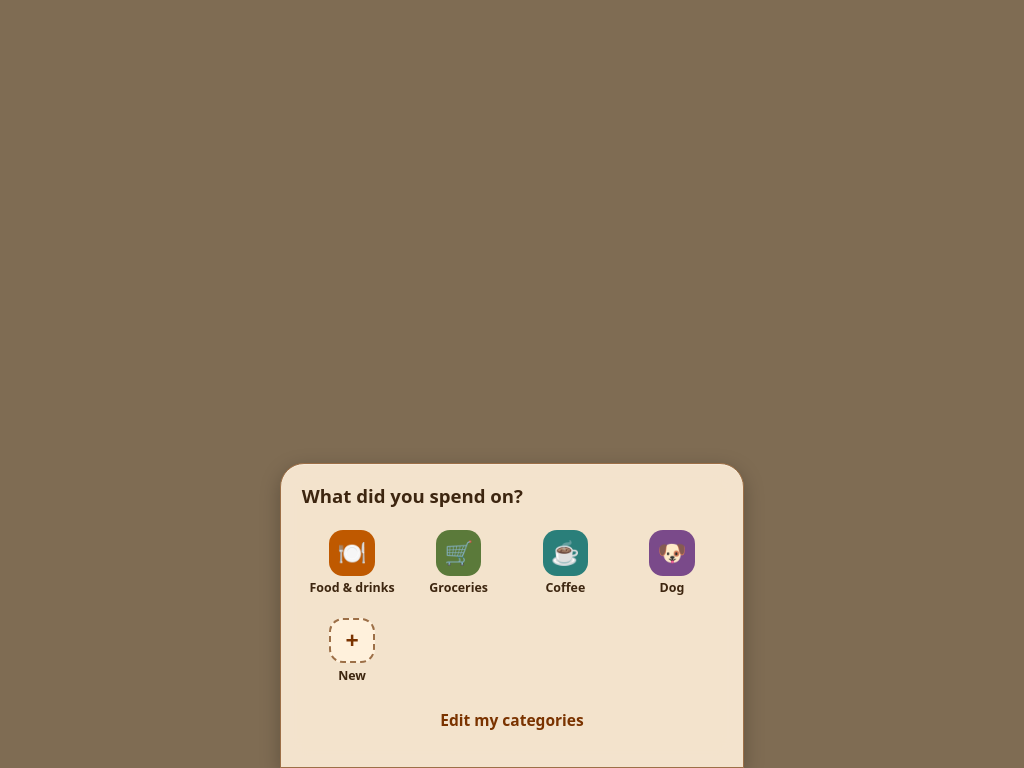
PersonalSpendingSheet, refused saves › shows the translated message for PERSONAL_ENTRY_CURRENCY_INVALID above Save
Click the button "☕ Coffee".
click(565, 563)  # box [515,524,616,601]
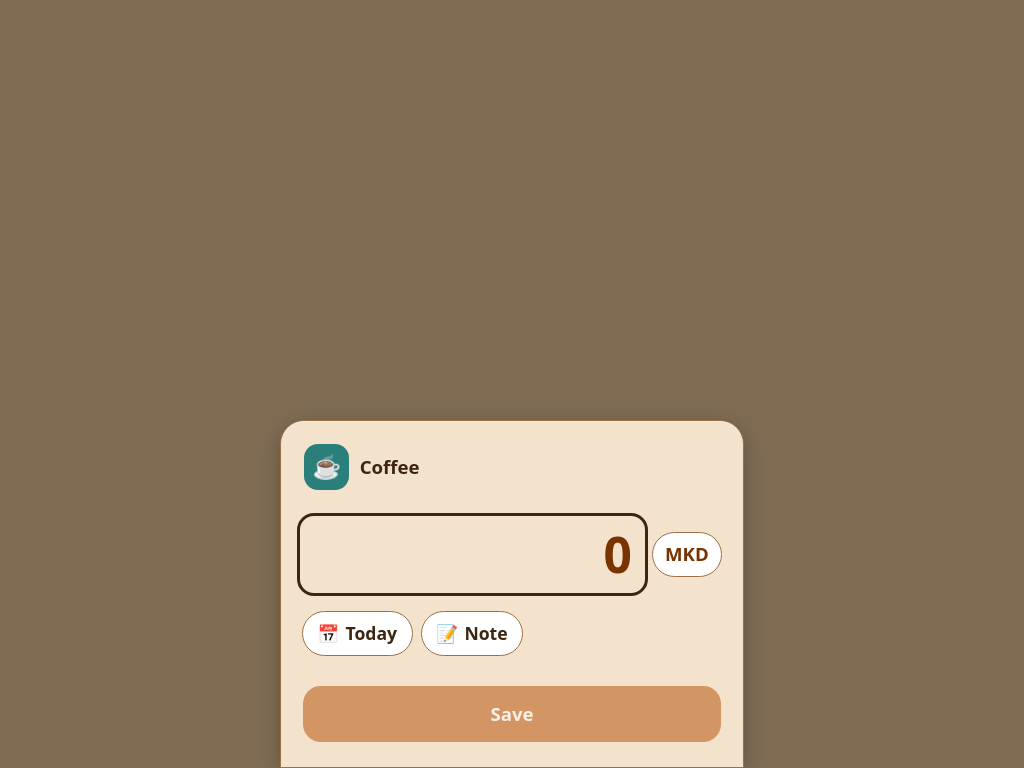
Type "120" into the field named "Amount".
click(473, 554); type("120")  # box [300,516,646,592]
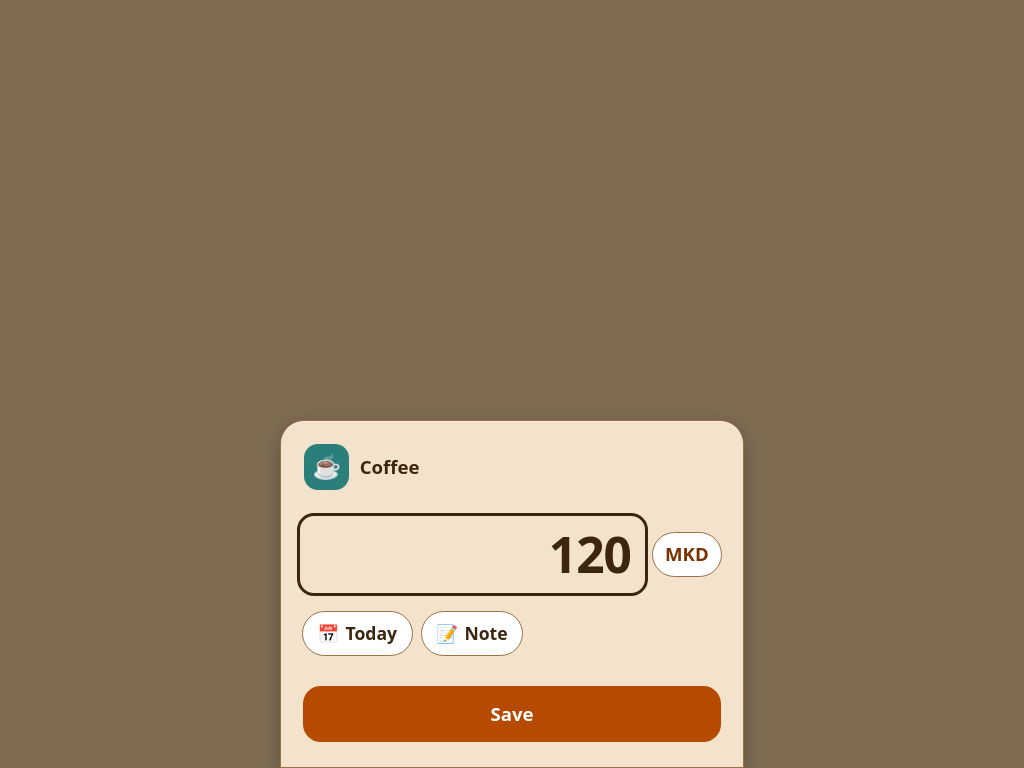
Click the button "📝 Note".
click(472, 633)  # box [421,610,523,656]
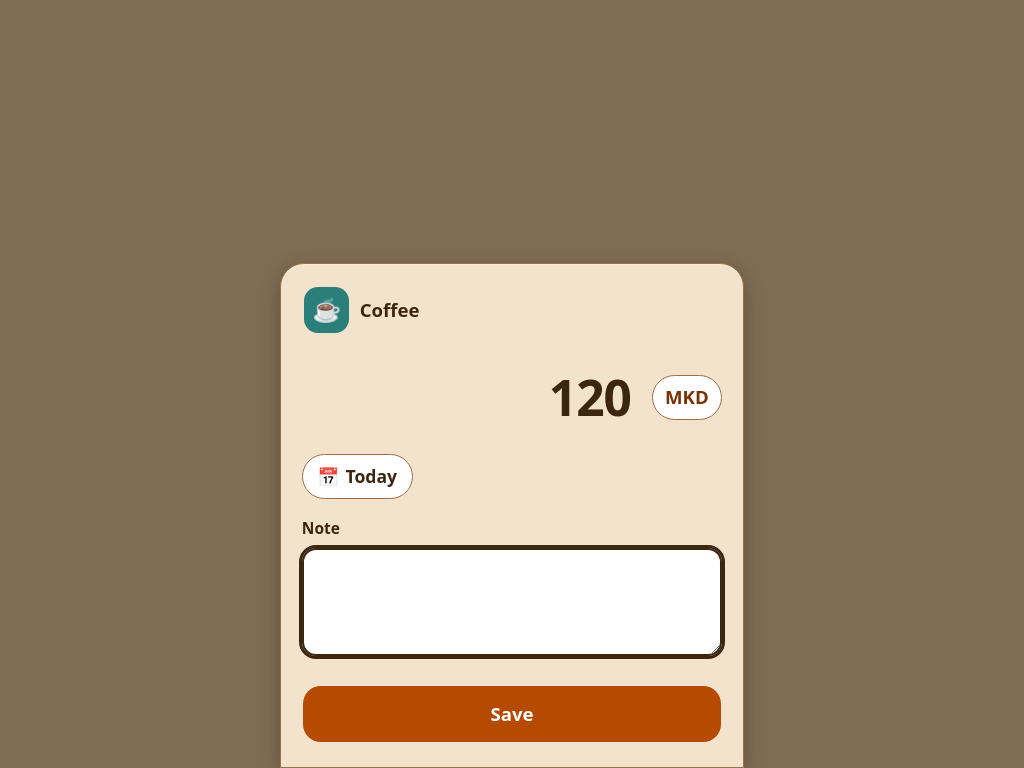
Type "for the office" into the text box labelled "Note".
click(512, 602); type("for the office")  # box [302,548,722,656]
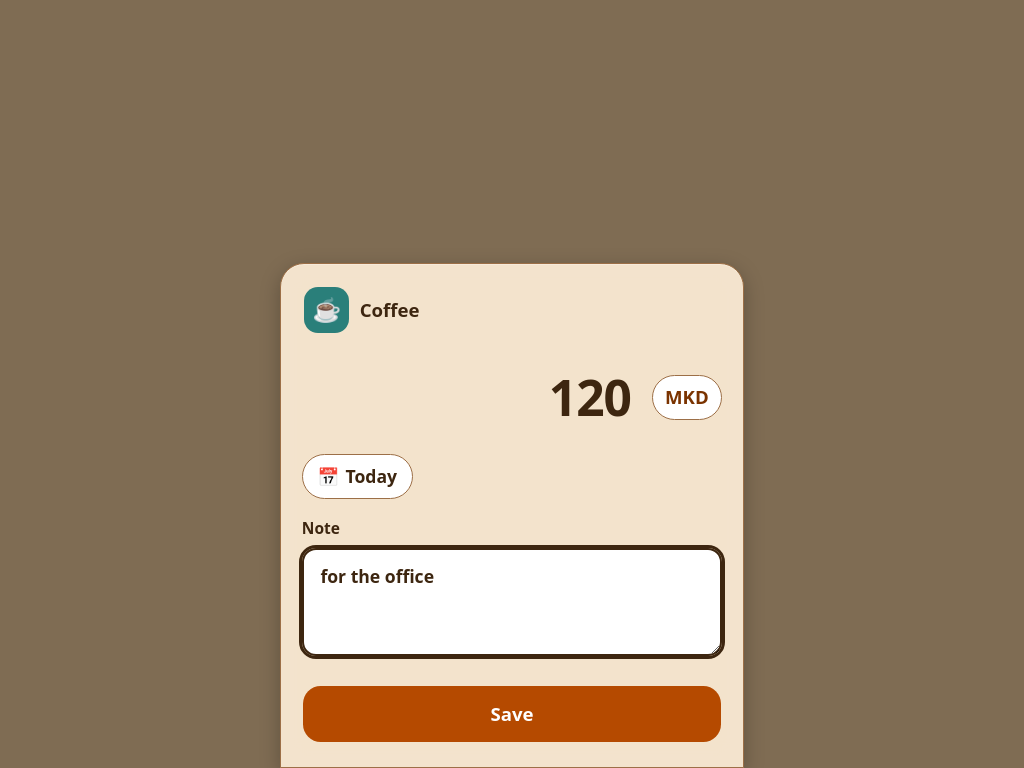
Click the button "Save".
click(512, 714)  # box [302,685,722,743]
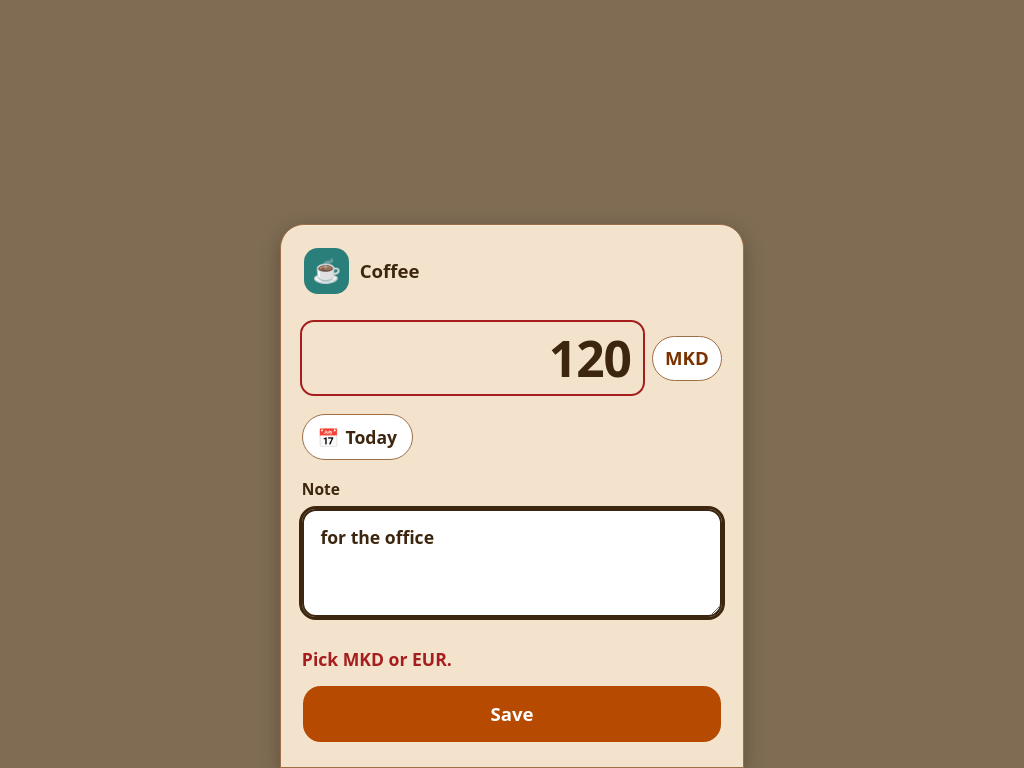
expect the message reads "Pick MKD or EUR.": met, box [302,647,452,671]
